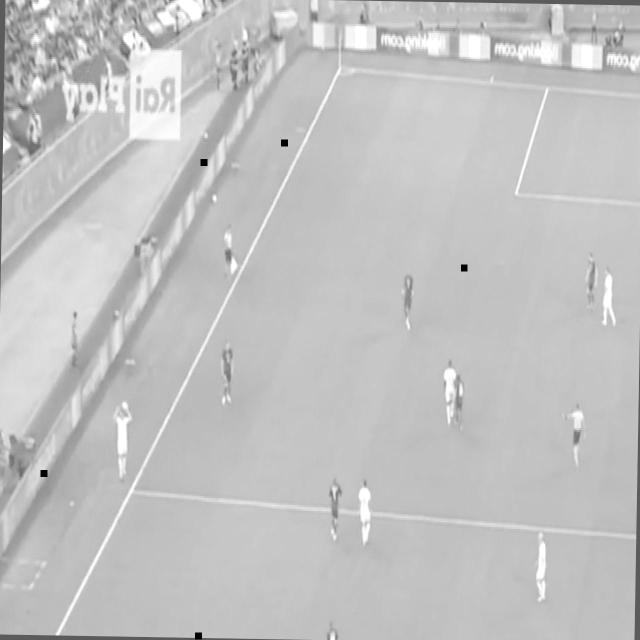ball: (121, 398, 128, 412), (211, 193, 217, 203), (204, 131, 208, 139)
player-white: (560, 400, 588, 470), (112, 399, 134, 478), (326, 476, 344, 544), (532, 531, 548, 605), (357, 477, 373, 548), (600, 266, 618, 328), (221, 223, 239, 285), (220, 340, 236, 408), (442, 356, 456, 428), (584, 250, 600, 310), (400, 272, 415, 332), (452, 372, 466, 434), (326, 618, 344, 640)
